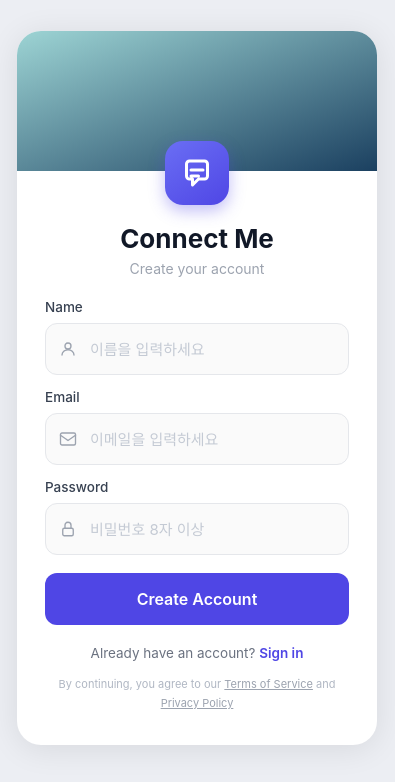
Test: RegisterPage › 빈 폼 제출 시 유효성 오류를 표시한다
Step 1. Click the button "Create Account" → (197, 599), box [45,573,349,625]
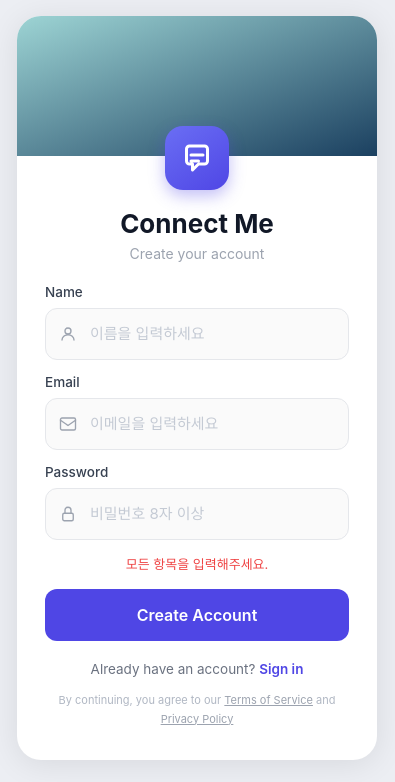
Check: the text "모든 항목을 입력해주세요." is shown, box [126,556,268,572]
